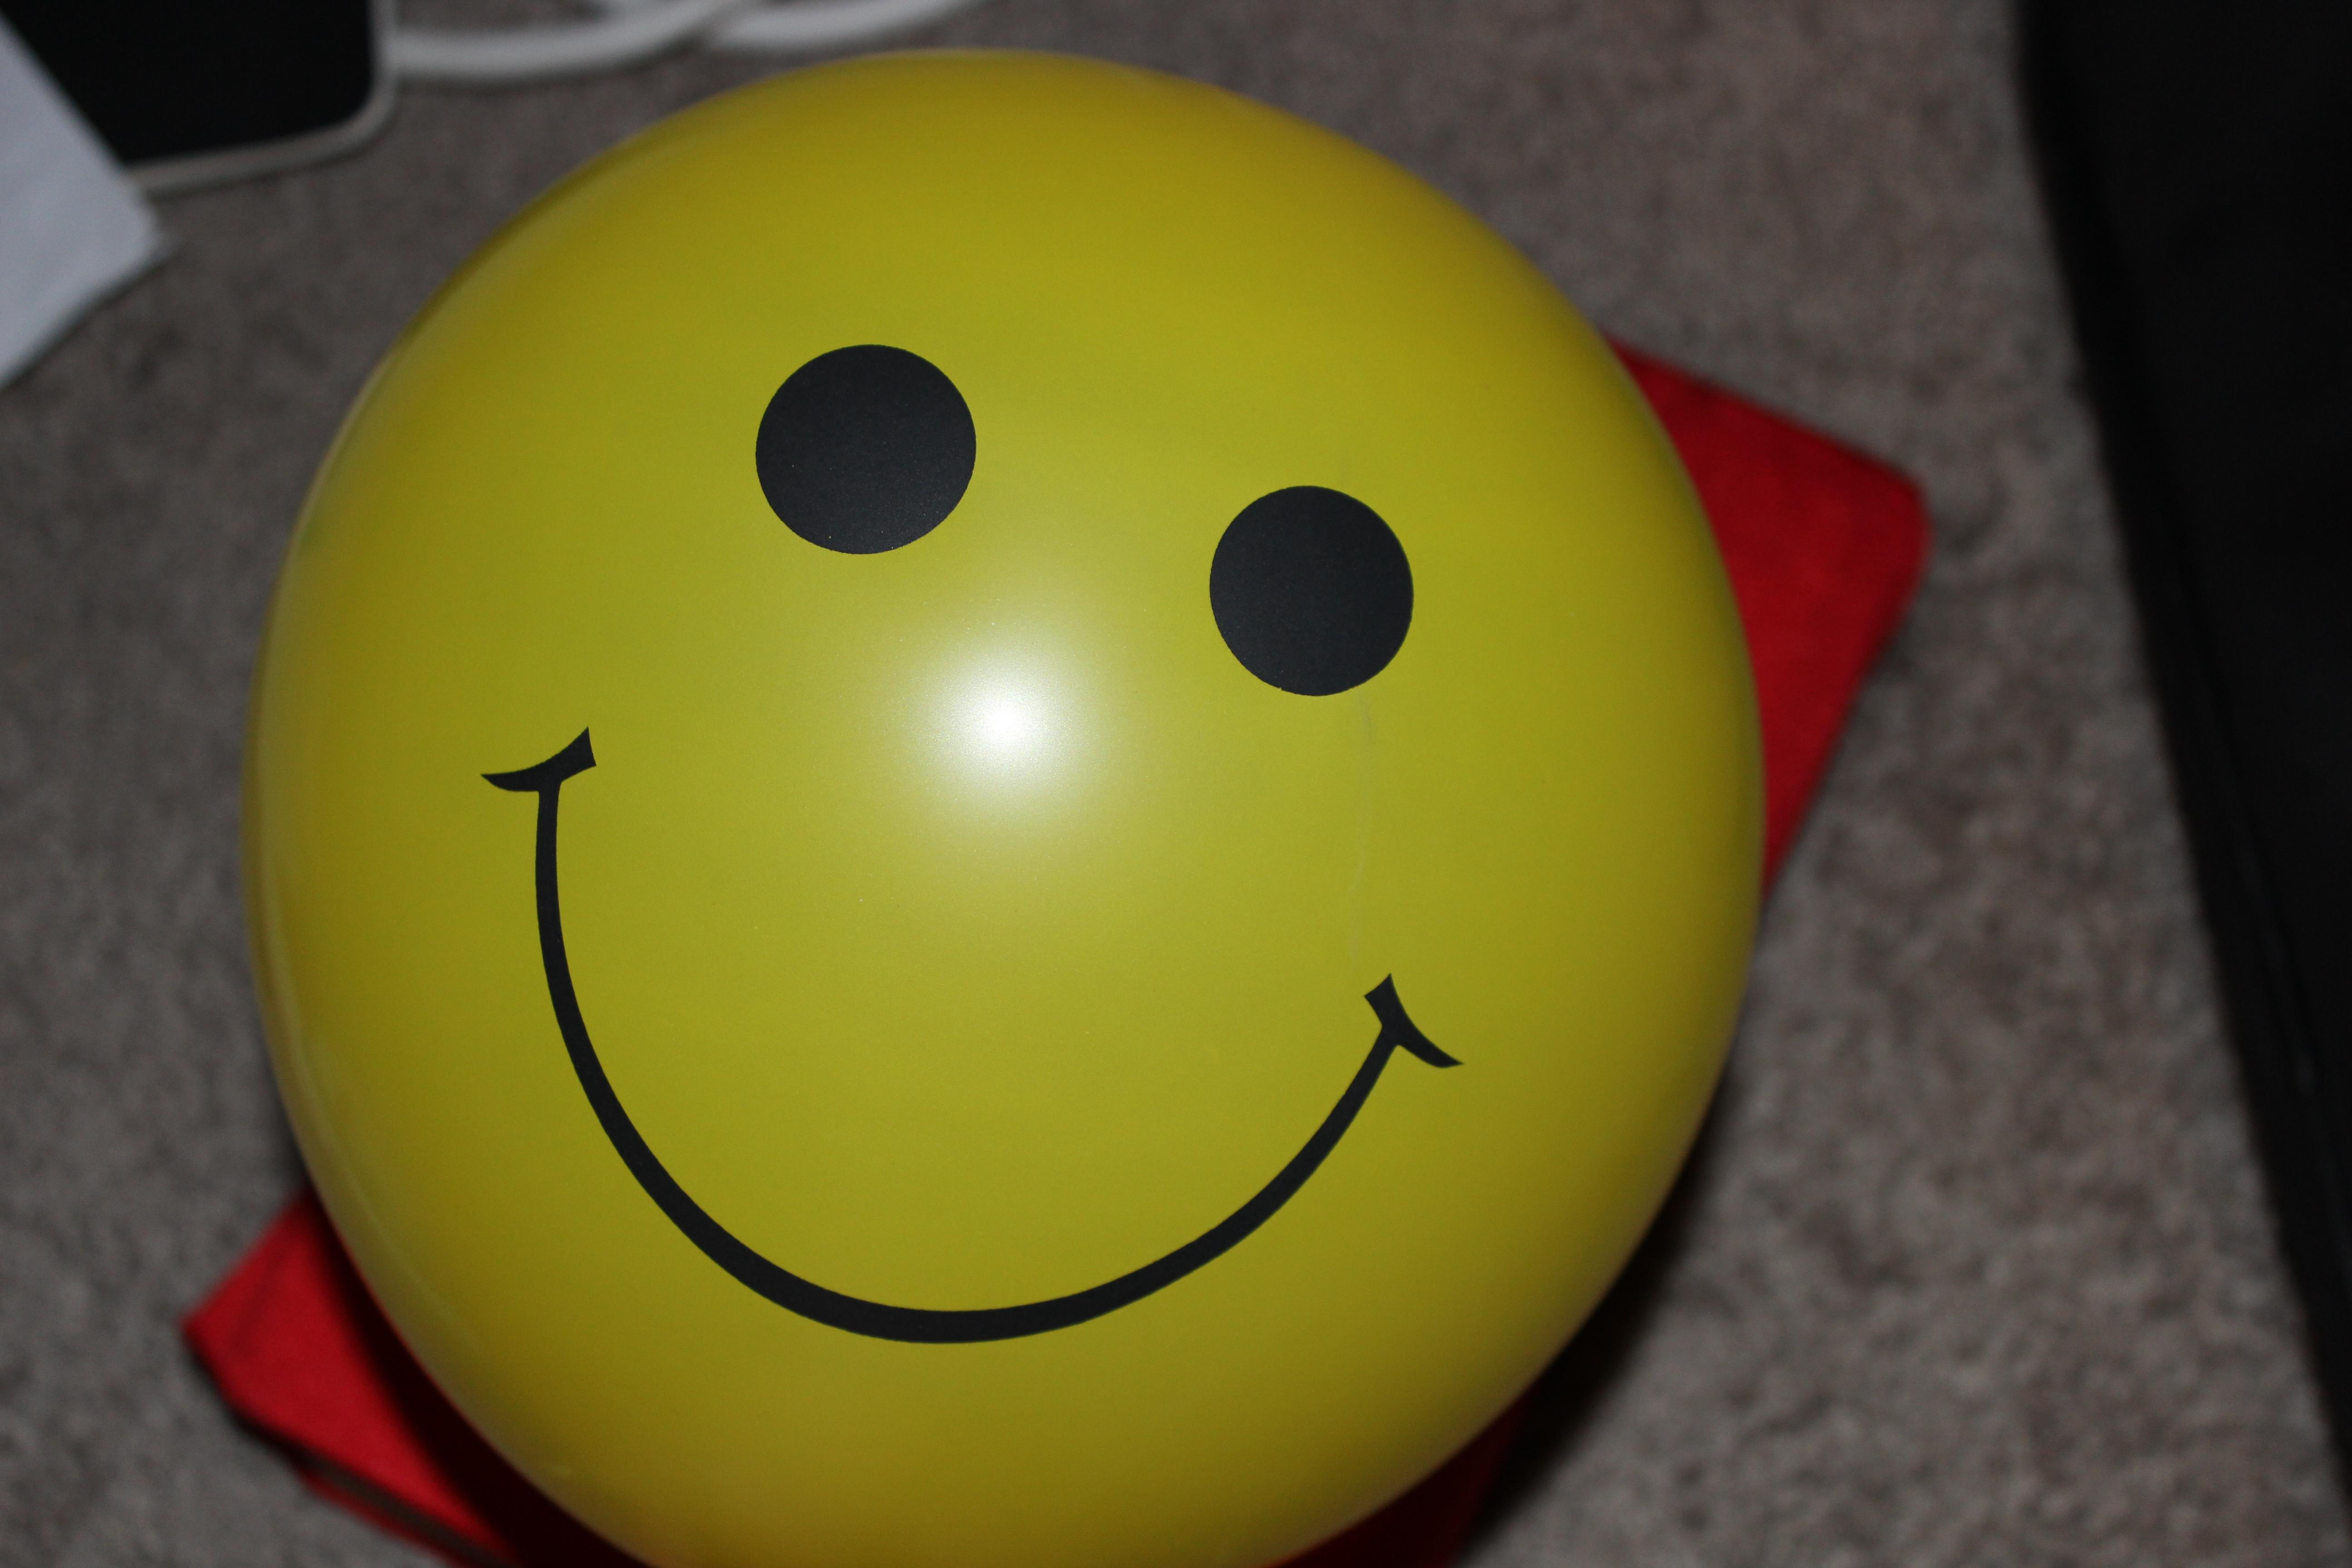yellowBalloon: (182, 7, 1824, 1568)
